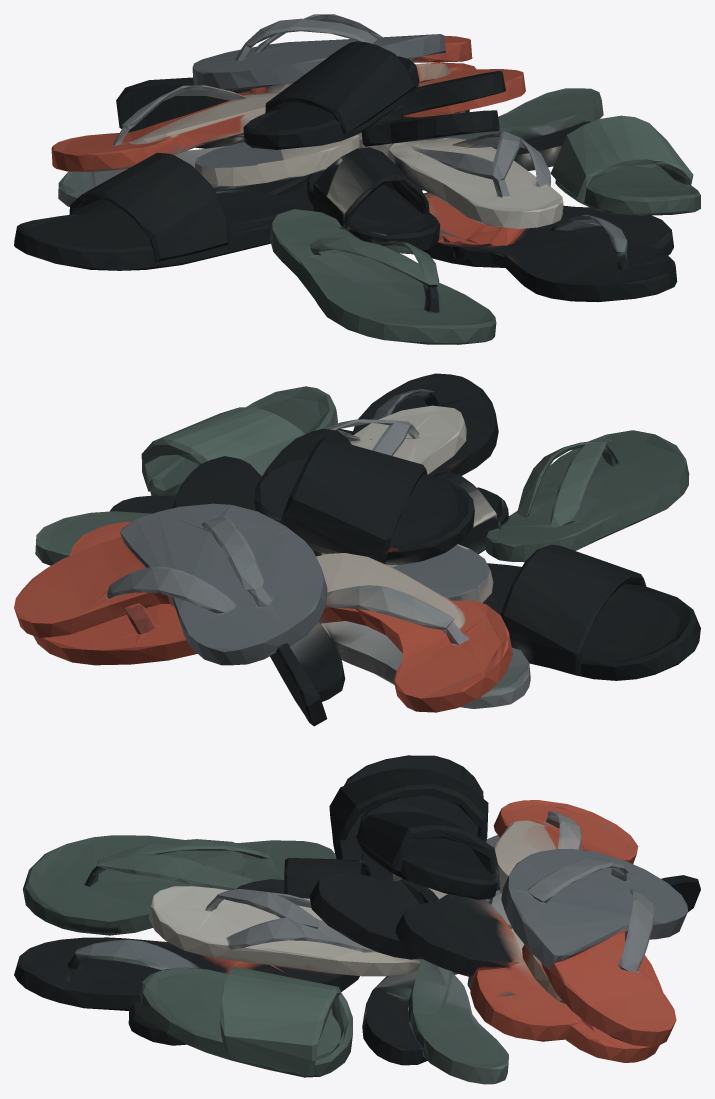
Rendered from slippers_pile.glb.
3 renders of one model, top to bottom at view 1: azimuth 30°, elevation 25°; view 2: azimuth 150°, elevation 25°; view 3: azimuth 270°, elevation 25°, orthographic. The views are drawn at different scales.
Parts seen in each view (by area): view 1: slippers_pile; view 2: slippers_pile; view 3: slippers_pile.
Boxes of the visible parts, x1,y1,x2,y2 form: slippers_pile: (14,14,700,344); slippers_pile: (14,373,700,726); slippers_pile: (14,755,700,1084).
Bounding box in the file's own units: 0.6 × 0.1482 × 0.592.
1 material, 1 textured.
